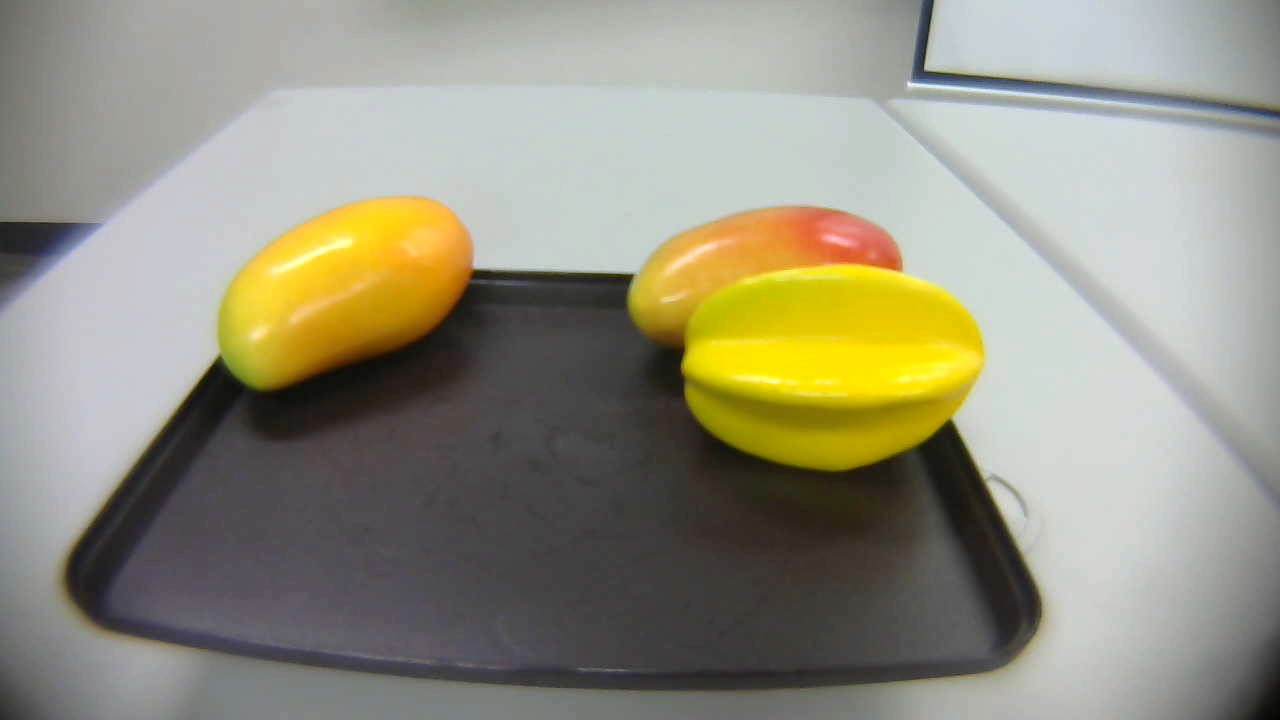red mango: (622, 202, 908, 356)
star fruit: (676, 260, 991, 471)
yellow mango: (220, 186, 479, 397)
